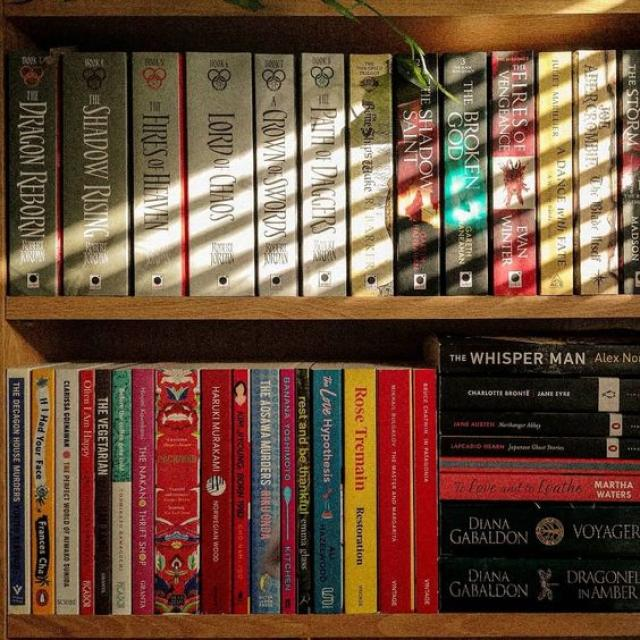book: (187, 53, 257, 295), (63, 53, 129, 295), (132, 52, 186, 295), (7, 53, 61, 294), (493, 52, 537, 296), (154, 370, 198, 614), (439, 503, 640, 556), (439, 559, 640, 612), (396, 54, 440, 296), (446, 53, 489, 296), (303, 53, 345, 296), (351, 54, 393, 295), (577, 51, 618, 294), (257, 54, 296, 296), (377, 370, 412, 612), (540, 52, 574, 296), (345, 370, 377, 612), (201, 370, 232, 612), (313, 368, 343, 614), (252, 370, 282, 614), (441, 378, 640, 410), (414, 368, 439, 614), (441, 346, 640, 376), (55, 371, 79, 614), (32, 370, 55, 612), (7, 368, 29, 614), (441, 411, 640, 438), (132, 368, 153, 614), (439, 476, 640, 501), (112, 368, 130, 614), (622, 51, 640, 294), (232, 370, 249, 614), (95, 369, 110, 614), (297, 370, 312, 614), (80, 370, 95, 612), (440, 456, 640, 474), (441, 439, 640, 457), (280, 370, 294, 614)
